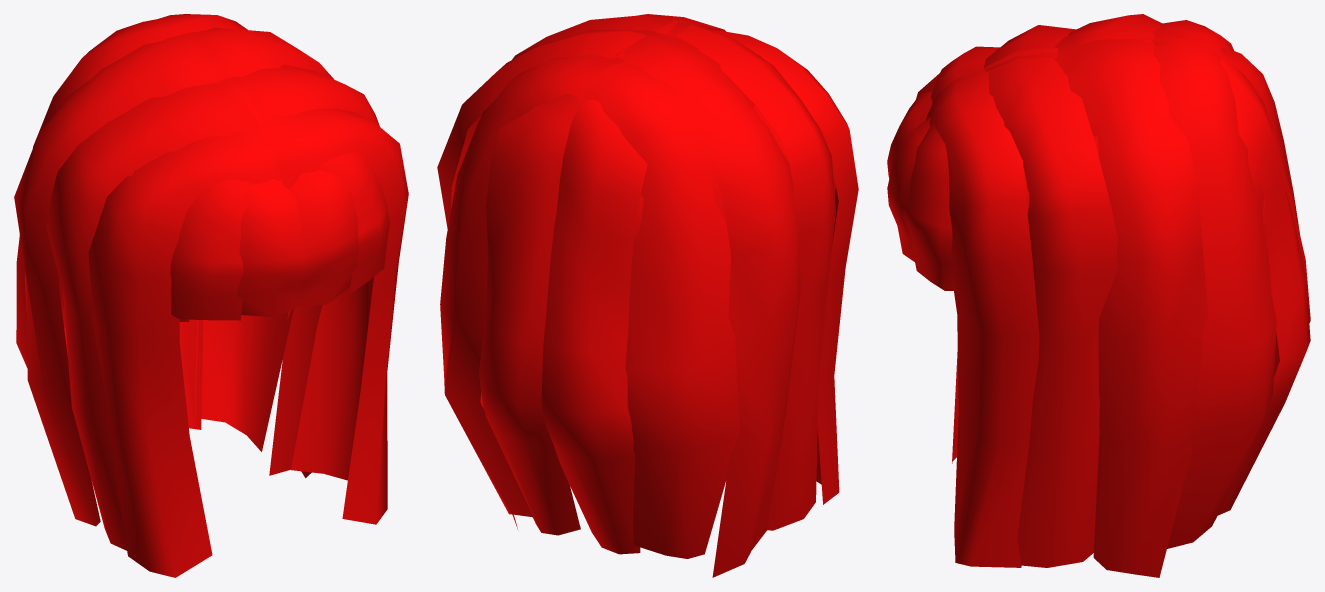
File: cortu_straight_bangs_F.glb
3 views of the same model, side by side, from view 1: azimuth 30°, elevation 25°; view 2: azimuth 150°, elevation 25°; view 3: azimuth 270°, elevation 25° (orthographic). The views are drawn at different scales.
Bounding box in the file's own units: 0.2022 × 0.2787 × 0.2156.
Materials: 1 (1 with a texture image).
